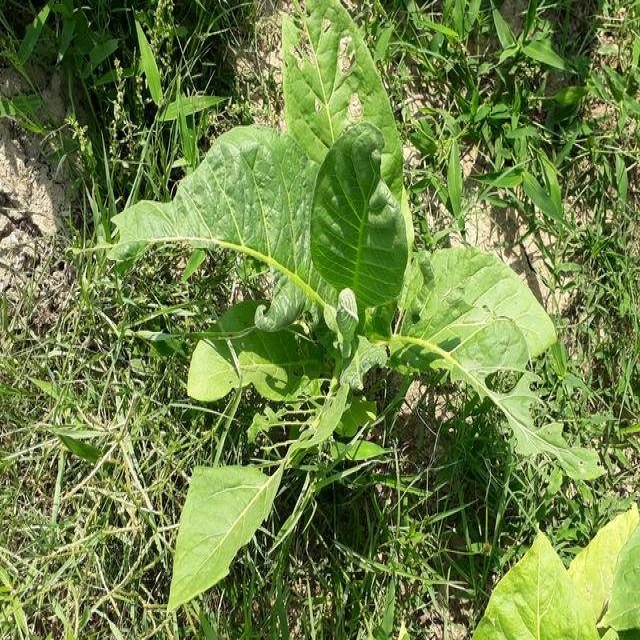crop: (97, 3, 599, 613)
